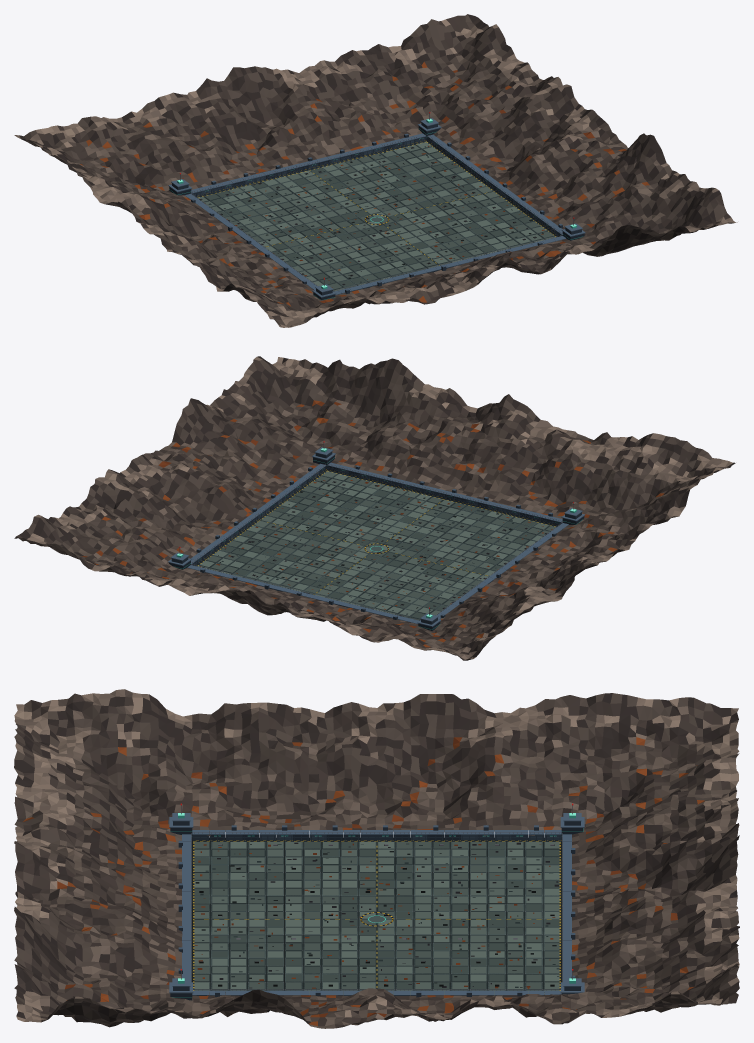
Rendered from ArenaFactory.fbx.
3 views of the same model, one above another, from view 1: azimuth 30°, elevation 25°; view 2: azimuth 150°, elevation 25°; view 3: azimuth 270°, elevation 25° (orthographic). The views are drawn at different scales.
Parts seen in each view (by area): view 1: ArenaCliffs, ArenaFloor, ArenaWalls; view 2: ArenaCliffs, ArenaFloor, ArenaWalls; view 3: ArenaCliffs, ArenaFloor, ArenaWalls.
Part boxes in pixels (x1=…): ArenaCliffs: x1=14, y1=14, x2=737, y2=327; ArenaFloor: x1=196, y1=141, x2=557, y2=291; ArenaWalls: x1=168, y1=112, x2=585, y2=299; ArenaCliffs: x1=14, y1=356, x2=735, y2=660; ArenaFloor: x1=196, y1=470, x2=556, y2=620; ArenaWalls: x1=168, y1=441, x2=585, y2=631; ArenaCliffs: x1=14, y1=689, x2=739, y2=1028; ArenaFloor: x1=191, y1=838, x2=562, y2=995; ArenaWalls: x1=169, y1=803, x2=584, y2=1000.
Bounding box in the file's own units: 432 × 57.68 × 432.
Materials: 1 (1 with a texture image).
